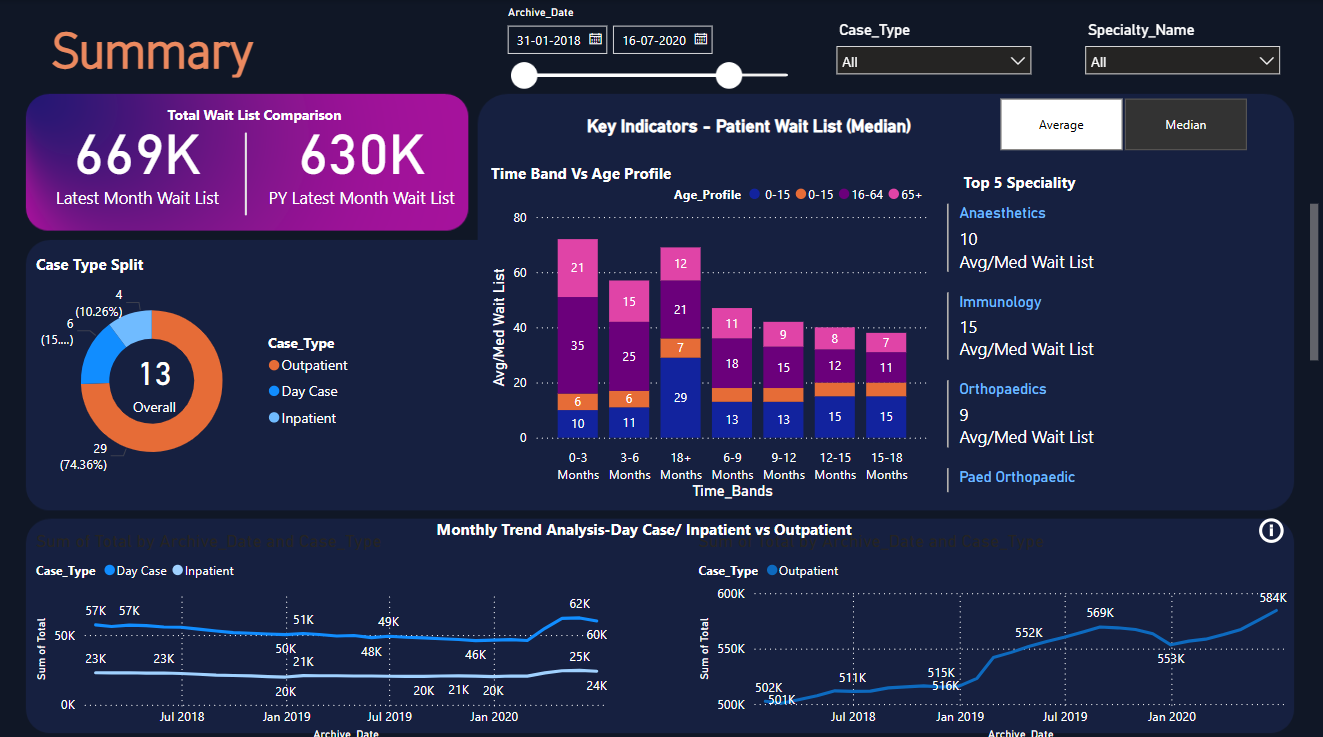

The dashboard page shown, as its layout file describes it:
{"tool":"powerbi","page":{"name":"Summary","canvas":[1280,720],"ordinal":0},"visuals":[{"type":"card","fields":{"Values":["All_Data.Latest Month Wait List"]},"box":[16,96,240,112],"z":0},{"type":"card","fields":{"Values":["All_Data.PY Latest Month Wait List"]},"box":[240,96,224,112],"z":1000},{"type":"slicer","fields":{"Values":["Calculation Table.Cal Method"]},"box":[942.2,88.1,288.3,63.9],"z":2000},{"type":"donutChart","fields":{"Category":["All_Data.Case_Type"],"Y":["All_Data.Avg/Med Wait List"]},"box":[32,240,320,256],"z":3000},{"type":"columnChart","fields":{"Category":["All_Data.Time_Bands"],"Y":["All_Data.Avg/Med Wait List"],"Series":["All_Data.Age_Profile"]},"box":[471.7,167.7,431.9,319.7],"z":4000},{"type":"multiRowCard","fields":{"Values":["All_Data.Specialty_Name","All_Data.Avg/Med Wait List"]},"box":[912,192,368,288],"z":5000},{"type":"lineChart","fields":{"Category":["All_Data.Archive_Date"],"Y":["Sum(All_Data.Total)"],"Series":["All_Data.Case_Type"]},"box":[32.6,511.5,575.5,208.7],"z":7000},{"type":"lineChart","fields":{"Category":["All_Data.Archive_Date"],"Y":["Sum(All_Data.Total)"],"Series":["All_Data.Case_Type"]},"box":[672,512,592,208],"z":9000},{"type":"slicer","fields":{"Values":["All_Data.Archive_Date"]},"box":[480,0,304,96],"z":10000},{"type":"slicer","fields":{"Values":["All_Data.Case_Type"]},"box":[800,16,208,64],"z":11000},{"type":"slicer","fields":{"Values":["All_Data.Specialty_Name"]},"box":[1040,16,208,64],"z":12000},{"type":"textbox","box":[48,16,224,64],"z":13000},{"type":"card","fields":{"Values":["All_Data.Avg/Med Wait List"]},"box":[112,320,80,96],"z":14000},{"type":"shape","box":[112,128,256,80],"z":15000},{"type":"textbox","box":[96,96,304,32],"z":16000},{"type":"textbox","box":[471.7,152,319.7,32.6],"z":17000},{"type":"textbox","box":[928,160,224,32],"z":18000},{"type":"textbox","box":[336,496,576,32],"z":19000},{"type":"textbox","box":[32,240,144,32],"z":20000},{"type":"card","fields":{"Values":["All_Data.Dynamic Title"]},"box":[523.6,96.5,404.2,51.9],"z":21000},{"type":"actionButton","box":[1213.7,495.8,50.7,32.6],"z":22000}]}

Visuals, with their boxes in screenshot pixels (x1, y1, x2, y2), scaled from the page's 1280x720 canvas onto the 1323x737 screenshot:
card - All_Data.Latest Month Wait List: <box>17,98,265,213</box>
card - All_Data.PY Latest Month Wait List: <box>248,98,480,213</box>
slicer - Calculation Table.Cal Method: <box>974,90,1272,156</box>
donutChart - All_Data.Case_Type x All_Data.Avg/Med Wait List: <box>33,246,364,508</box>
columnChart - All_Data.Time_Bands x All_Data.Avg/Med Wait List: <box>488,172,934,499</box>
multiRowCard - All_Data.Specialty_Name x All_Data.Avg/Med Wait List: <box>943,197,1322,491</box>
lineChart - All_Data.Archive_Date x Sum(All_Data.Total): <box>34,524,629,736</box>
lineChart - All_Data.Archive_Date x Sum(All_Data.Total): <box>695,524,1306,736</box>
slicer - All_Data.Archive_Date: <box>496,0,810,98</box>
slicer - All_Data.Case_Type: <box>827,16,1042,82</box>
slicer - All_Data.Specialty_Name: <box>1075,16,1290,82</box>
textbox: <box>50,16,281,82</box>
card - All_Data.Avg/Med Wait List: <box>116,328,198,426</box>
shape: <box>116,131,380,213</box>
textbox: <box>99,98,413,131</box>
textbox: <box>488,156,818,189</box>
textbox: <box>959,164,1191,197</box>
textbox: <box>347,508,943,540</box>
textbox: <box>33,246,182,278</box>
card - All_Data.Dynamic Title: <box>541,99,959,152</box>
actionButton: <box>1254,508,1307,541</box>
